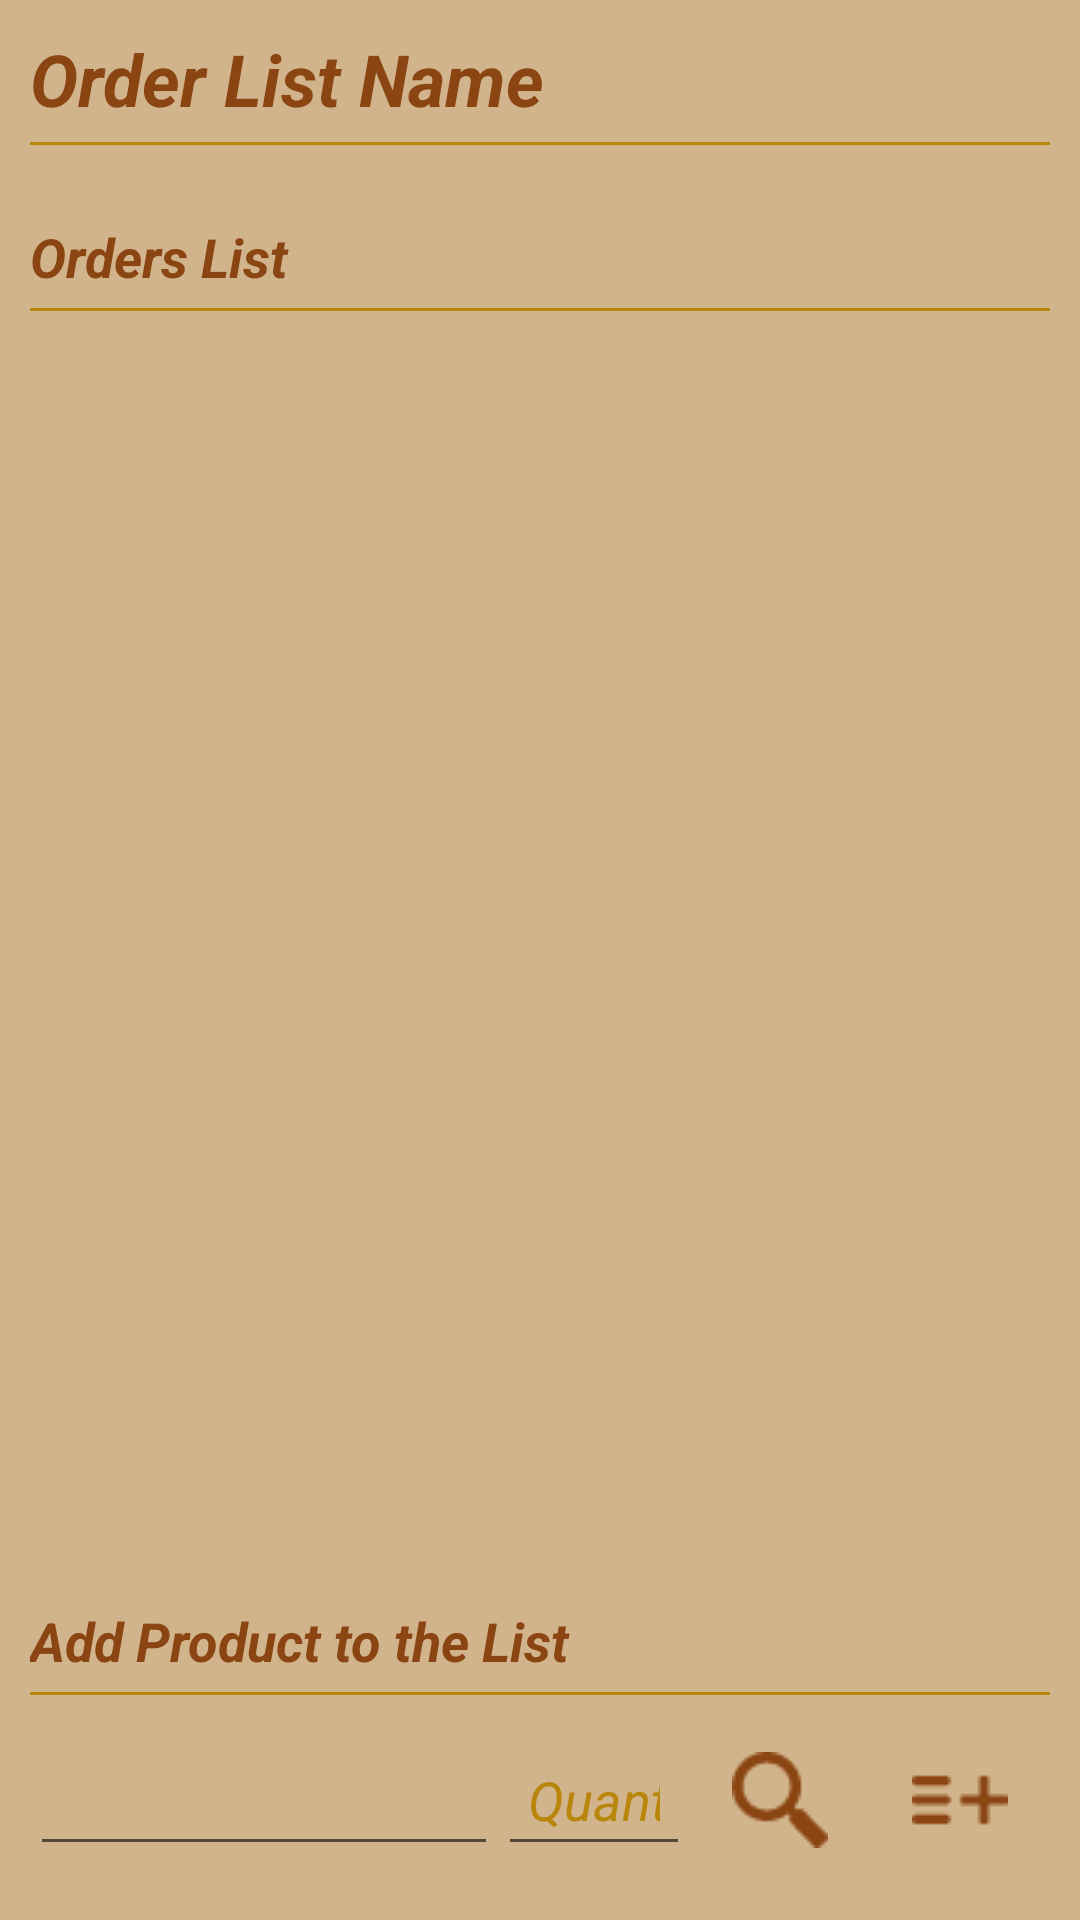

Icons on this 1080 x 1920 Android screen, each with its box as (x1, y1, x2, y2):
searck: (732, 1752, 828, 1848)
